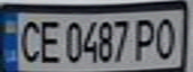0: (63, 18, 84, 64)
4: (81, 17, 100, 64)
7: (112, 16, 133, 63)
8: (96, 17, 115, 63)
C: (12, 16, 45, 64)
E: (33, 17, 63, 65)
O: (151, 14, 181, 62)
P: (130, 15, 160, 62)
